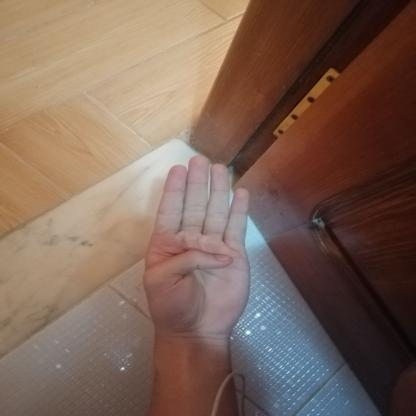KAAF: (128, 149, 266, 347)
